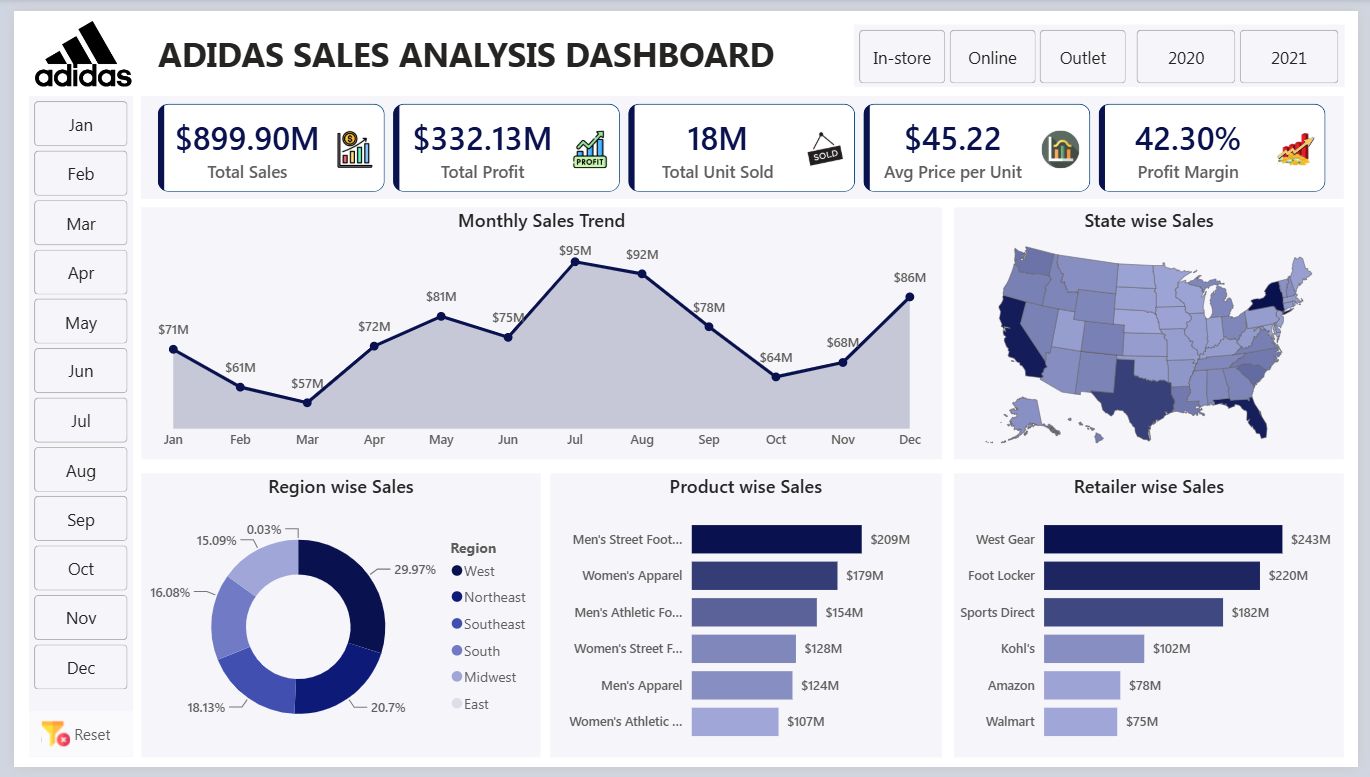

Layout of this report page (visuals, bound fields, positions):
{"tool":"powerbi","page":{"name":"Page 1","canvas":[1280,720],"ordinal":0},"visuals":[{"type":"shape","box":[121.9,80.8,1144.9,97.7],"z":0},{"type":"shape","box":[799.9,13.3,466.9,59.1],"z":1000},{"type":"shape","box":[14.5,80.8,98.9,629.8],"z":2000},{"type":"lineChart","title":"Monthly Sales Trend","fields":{"Y":["All_Measures.Total Sales"],"Category":["Custom Calendar.Month Name"]},"box":[121.9,187,762.5,240.1],"z":3000},{"type":"shapeMap","title":"State wise Sales","fields":{"Category":["Data Sales Adidas.State"],"Value":["All_Measures.Total Sales"]},"box":[895.2,187,371.6,240.1],"z":4000},{"type":"donutChart","title":"Region wise Sales","fields":{"Category":["Data Sales Adidas.Region"],"Y":["All_Measures.Total Sales"]},"box":[121.2,440,380,270],"z":5000},{"type":"clusteredBarChart","title":"Product wise Sales","fields":{"Category":["Data Sales Adidas.Product"],"Y":["All_Measures.Total Sales"]},"box":[511.2,440,372.5,270],"z":6000},{"type":"clusteredBarChart","title":"Retailer wise Sales","fields":{"Category":["Data Sales Adidas.Retailer"],"Y":["All_Measures.Total Sales"]},"box":[895,440,371.2,270],"z":7000},{"type":"advancedSlicerVisual","fields":{"Values":["Custom Calendar.Month Name"]},"box":[14.5,80.8,98.9,574.3],"z":8000},{"type":"textbox","box":[132.5,13.8,617.5,58.8],"z":9000},{"type":"cardVisual","fields":{"Data":["All_Measures.Total Sales","All_Measures.Total Profit","All_Measures.Total Unit Sold","All_Measures.Avg Price per Unit","All_Measures.Avg Profit Margin"]},"box":[120.6,71.2,1146.1,118.2],"z":10000},{"type":"actionButton","box":[14.5,667.2,98.9,43.4],"z":11000},{"type":"image","box":[0,9.8,132.1,62.4],"z":12000},{"type":"advancedSlicerVisual","fields":{"Values":["Data Sales Adidas.Sales Method"]},"box":[800,12.5,263.8,61.2],"z":13000},{"type":"advancedSlicerVisual","fields":{"Values":["Custom Calendar.Year"]},"box":[1063.8,12.5,202.5,61.2],"z":14000}]}

Visuals, with their boxes in screenshot pixels (x1, y1, x2, y2), scaled from the page's 1280x720 canvas onto the 1370x777 screenshot:
shape: <region>130, 87, 1356, 193</region>
shape: <region>856, 14, 1356, 78</region>
shape: <region>16, 87, 121, 767</region>
"Monthly Sales Trend" lineChart: <region>130, 202, 947, 461</region>
"State wise Sales" shapeMap: <region>958, 202, 1356, 461</region>
"Region wise Sales" donutChart: <region>130, 475, 536, 766</region>
"Product wise Sales" clusteredBarChart: <region>547, 475, 946, 766</region>
"Retailer wise Sales" clusteredBarChart: <region>958, 475, 1355, 766</region>
advancedSlicerVisual - Custom Calendar.Month Name: <region>16, 87, 121, 707</region>
textbox: <region>142, 15, 803, 78</region>
cardVisual - All_Measures.Total Sales x All_Measures.Total Profit: <region>129, 77, 1356, 204</region>
actionButton: <region>16, 720, 121, 767</region>
image: <region>0, 11, 141, 78</region>
advancedSlicerVisual - Data Sales Adidas.Sales Method: <region>856, 13, 1139, 80</region>
advancedSlicerVisual - Custom Calendar.Year: <region>1139, 13, 1355, 80</region>
